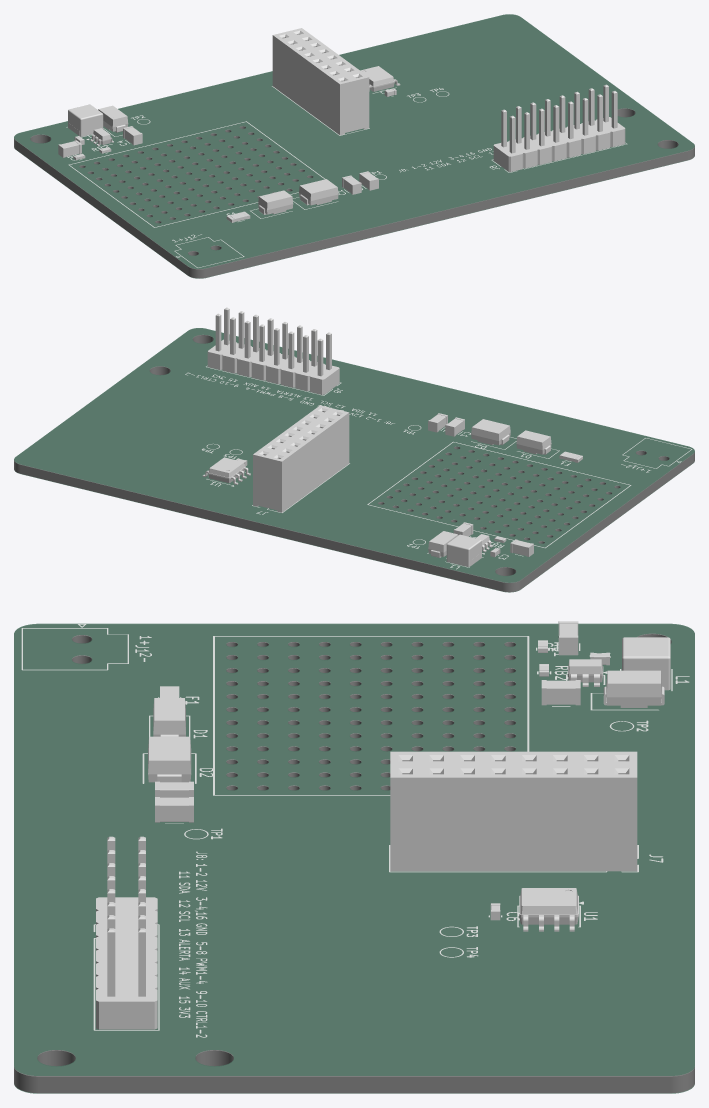
File: AP1_Plantilla.glb
3 views of the same model, one above another, from view 1: azimuth 30°, elevation 25°; view 2: azimuth 150°, elevation 25°; view 3: azimuth 270°, elevation 25° (orthographic). The views are drawn at different scales.
Parts seen in each view (by area): view 1: =>[0:1:1:17], =>[0:1:1:15], J7, J8, =>[0:1:1:13], L1, D2, D1, =>[0:1:1:16], U1, D3; view 2: =>[0:1:1:17], =>[0:1:1:15], J7, J8, =>[0:1:1:13], L1, D2, U1, D1, =>[0:1:1:16], D3; view 3: =>[0:1:1:17], =>[0:1:1:15], J7, J8, =>[0:1:1:13], U1, D3, D2, L1, D1, C4, C2 (+2 smaller).
Part boxes in pixels (bbox=[...]): =>[0:1:1:17]: bbox=[14, 15, 694, 278]; =>[0:1:1:15]: bbox=[14, 14, 694, 268]; J7: bbox=[272, 28, 369, 135]; J8: bbox=[493, 84, 625, 171]; =>[0:1:1:13]: bbox=[66, 86, 627, 267]; L1: bbox=[68, 104, 103, 136]; D2: bbox=[299, 179, 338, 205]; D1: bbox=[258, 190, 293, 214]; =>[0:1:1:16]: bbox=[14, 148, 694, 278]; U1: bbox=[360, 66, 400, 91]; D3: bbox=[98, 105, 128, 132]; =>[0:1:1:17]: bbox=[14, 329, 694, 592]; =>[0:1:1:15]: bbox=[14, 328, 694, 582]; J7: bbox=[253, 405, 349, 512]; J8: bbox=[207, 307, 339, 394]; =>[0:1:1:13]: bbox=[185, 365, 692, 569]; L1: bbox=[446, 534, 481, 566]; D2: bbox=[471, 419, 510, 445]; U1: bbox=[202, 457, 250, 484]; D1: bbox=[516, 430, 551, 454]; =>[0:1:1:16]: bbox=[14, 462, 694, 592]; D3: bbox=[428, 531, 458, 557]; =>[0:1:1:17]: bbox=[14, 625, 694, 1093]; =>[0:1:1:15]: bbox=[14, 623, 694, 1075]; J7: bbox=[390, 751, 637, 871]; J8: bbox=[96, 836, 157, 1029]; =>[0:1:1:13]: bbox=[21, 624, 689, 1037]; U1: bbox=[519, 888, 578, 931]; D3: bbox=[603, 670, 664, 707]; D2: bbox=[148, 736, 191, 782]; L1: bbox=[622, 637, 670, 690]; D1: bbox=[153, 698, 185, 736]; C4: bbox=[541, 680, 580, 705]; C2: bbox=[155, 797, 193, 822].
Size of the model in its own units: 0.088 by 0.0116 by 0.056.
